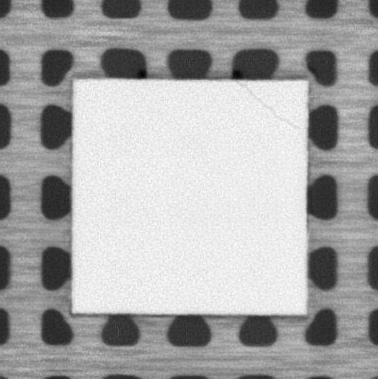DIE_CRACK: (238, 82, 299, 128)
